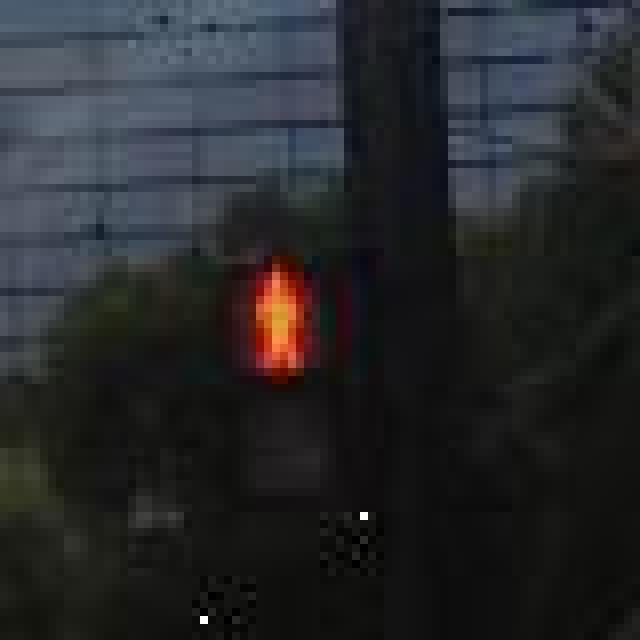redlight: (216, 259, 360, 522)
